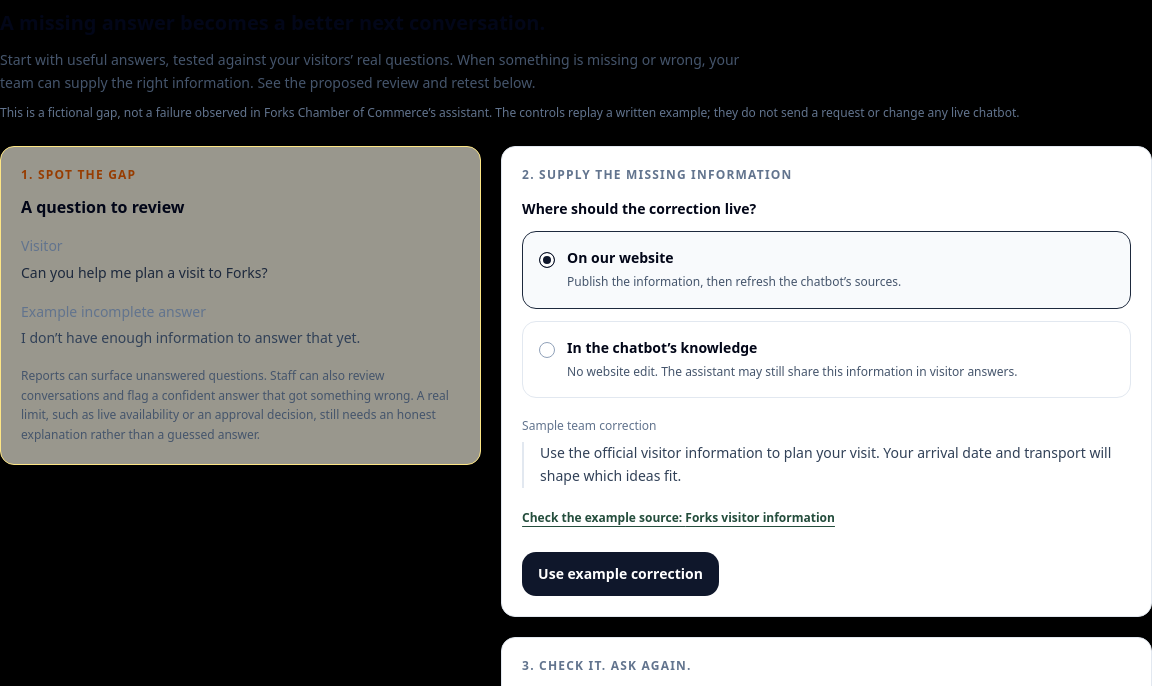
Test case: clears the previous result when the team changes where its correction belongs
Click the button "Use example correction": (620, 574) [522,552,719,596]
(page scrolled)
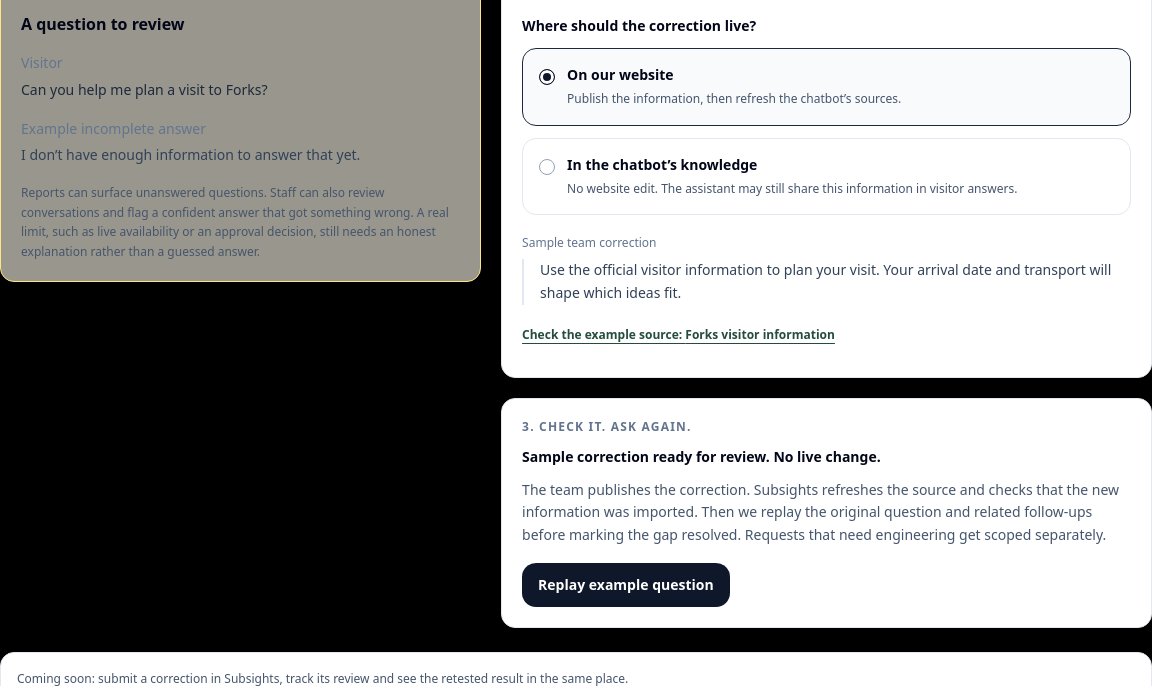
Click the button "Replay example question": (626, 585) [522,563,730,607]
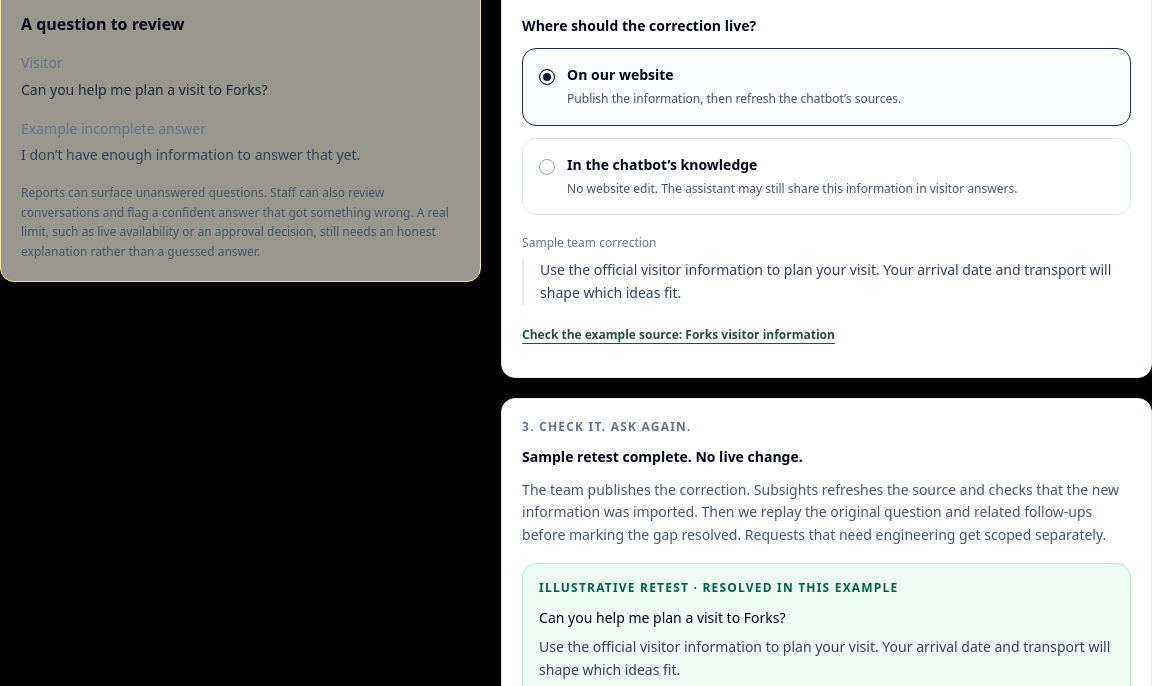
Click the radio button labelled "In the chatbot’s knowledge": (547, 166) [539,158,555,174]
(page scrolled)
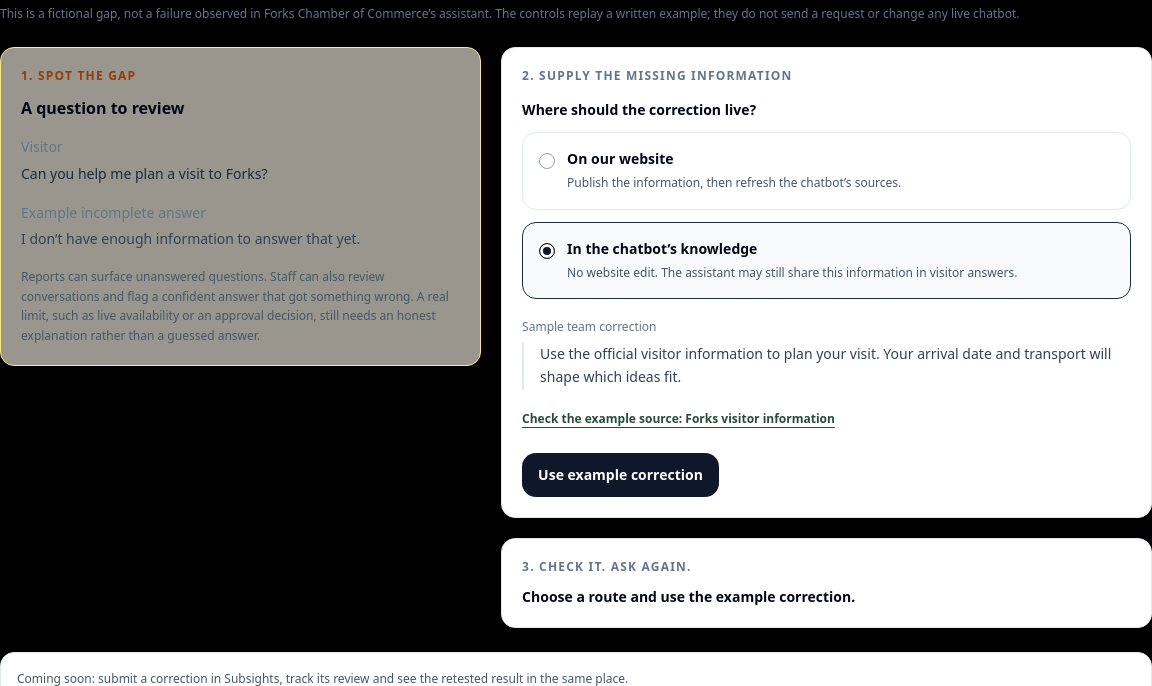
Expected: the text "may still share this information in visitor answers" is shown, [567,264,1017,280]
Click the button "Use example correction": (620, 474) [522,452,719,496]
(page scrolled)
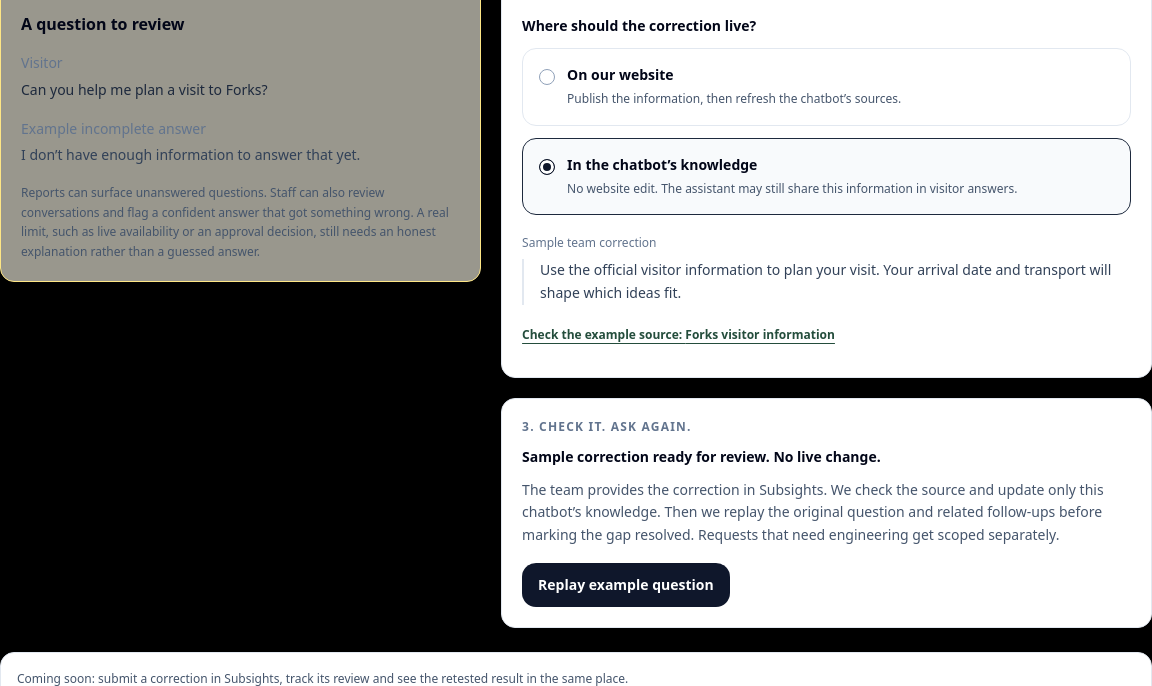
Expected: the text "update only this chatbot’s knowledge" is shown, [522,480,1104,521]
Click the radio button labelled "On our website": (547, 77) [539,69,555,85]
(page scrolled)
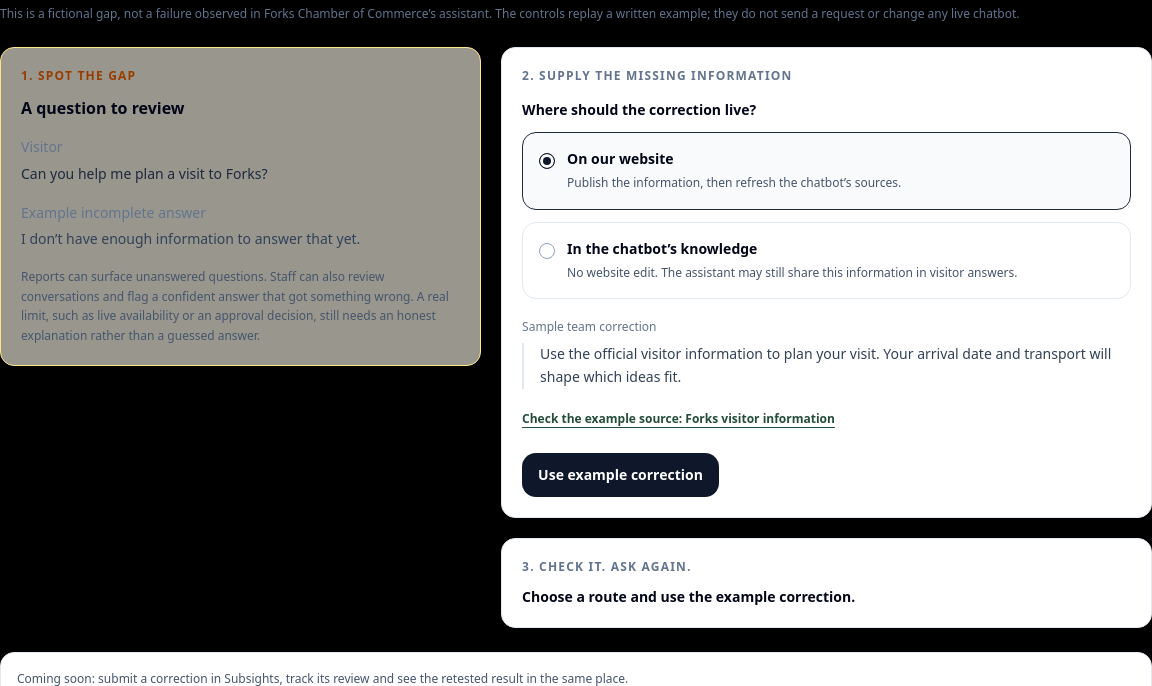
Expected: the button "Replay example question" is gone
